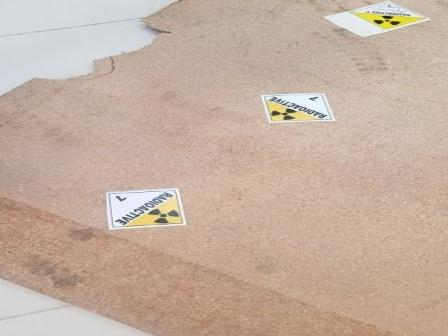radioactive: (105, 190, 187, 228), (346, 1, 435, 30), (259, 93, 340, 124)
